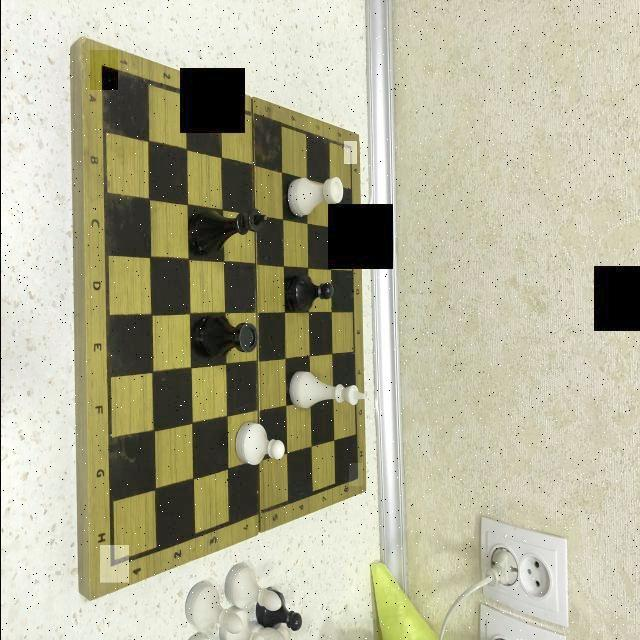chess-table-corners: (89, 50, 117, 90), (99, 546, 128, 584), (348, 463, 362, 486), (343, 141, 356, 164)
